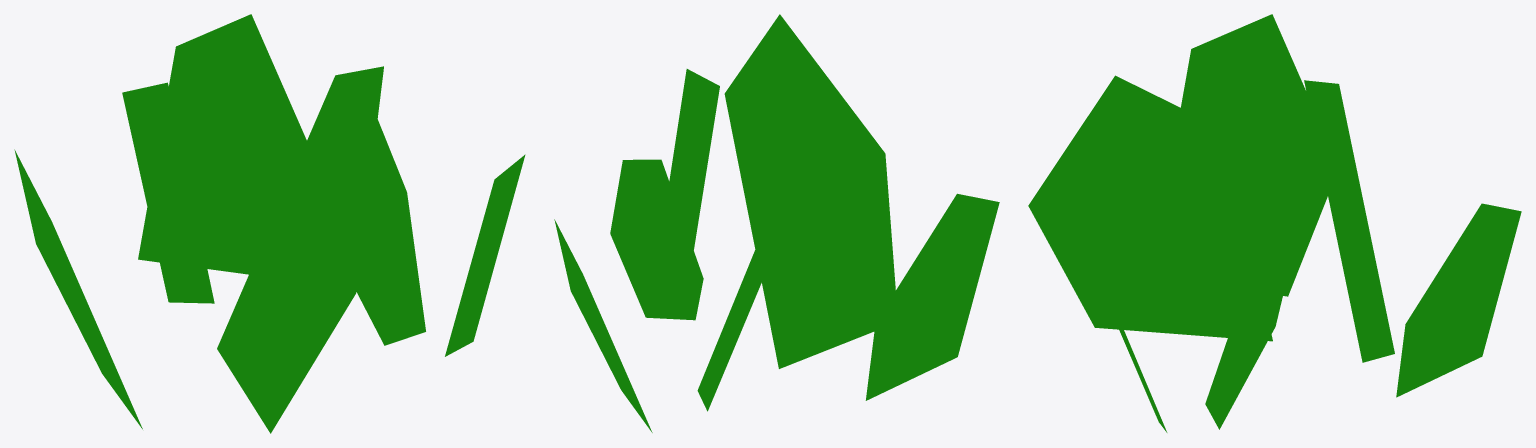
The model's file is Magnus_1.fbx.
3 views of the same model, side by side, from view 1: azimuth 30°, elevation 25°; view 2: azimuth 150°, elevation 25°; view 3: azimuth 270°, elevation 25° (orthographic). The views are drawn at different scales.
Parts seen in each view (by area): view 1: Magnus_1; view 2: Magnus_1; view 3: Magnus_1.
Part boxes in pixels (x1=…): Magnus_1: x1=14, y1=14, x2=525, y2=433; Magnus_1: x1=554, y1=14, x2=999, y2=432; Magnus_1: x1=1028, y1=14, x2=1521, y2=432.
Bounding box in the file's own units: 78.98 × 59.95 × 86.52.
